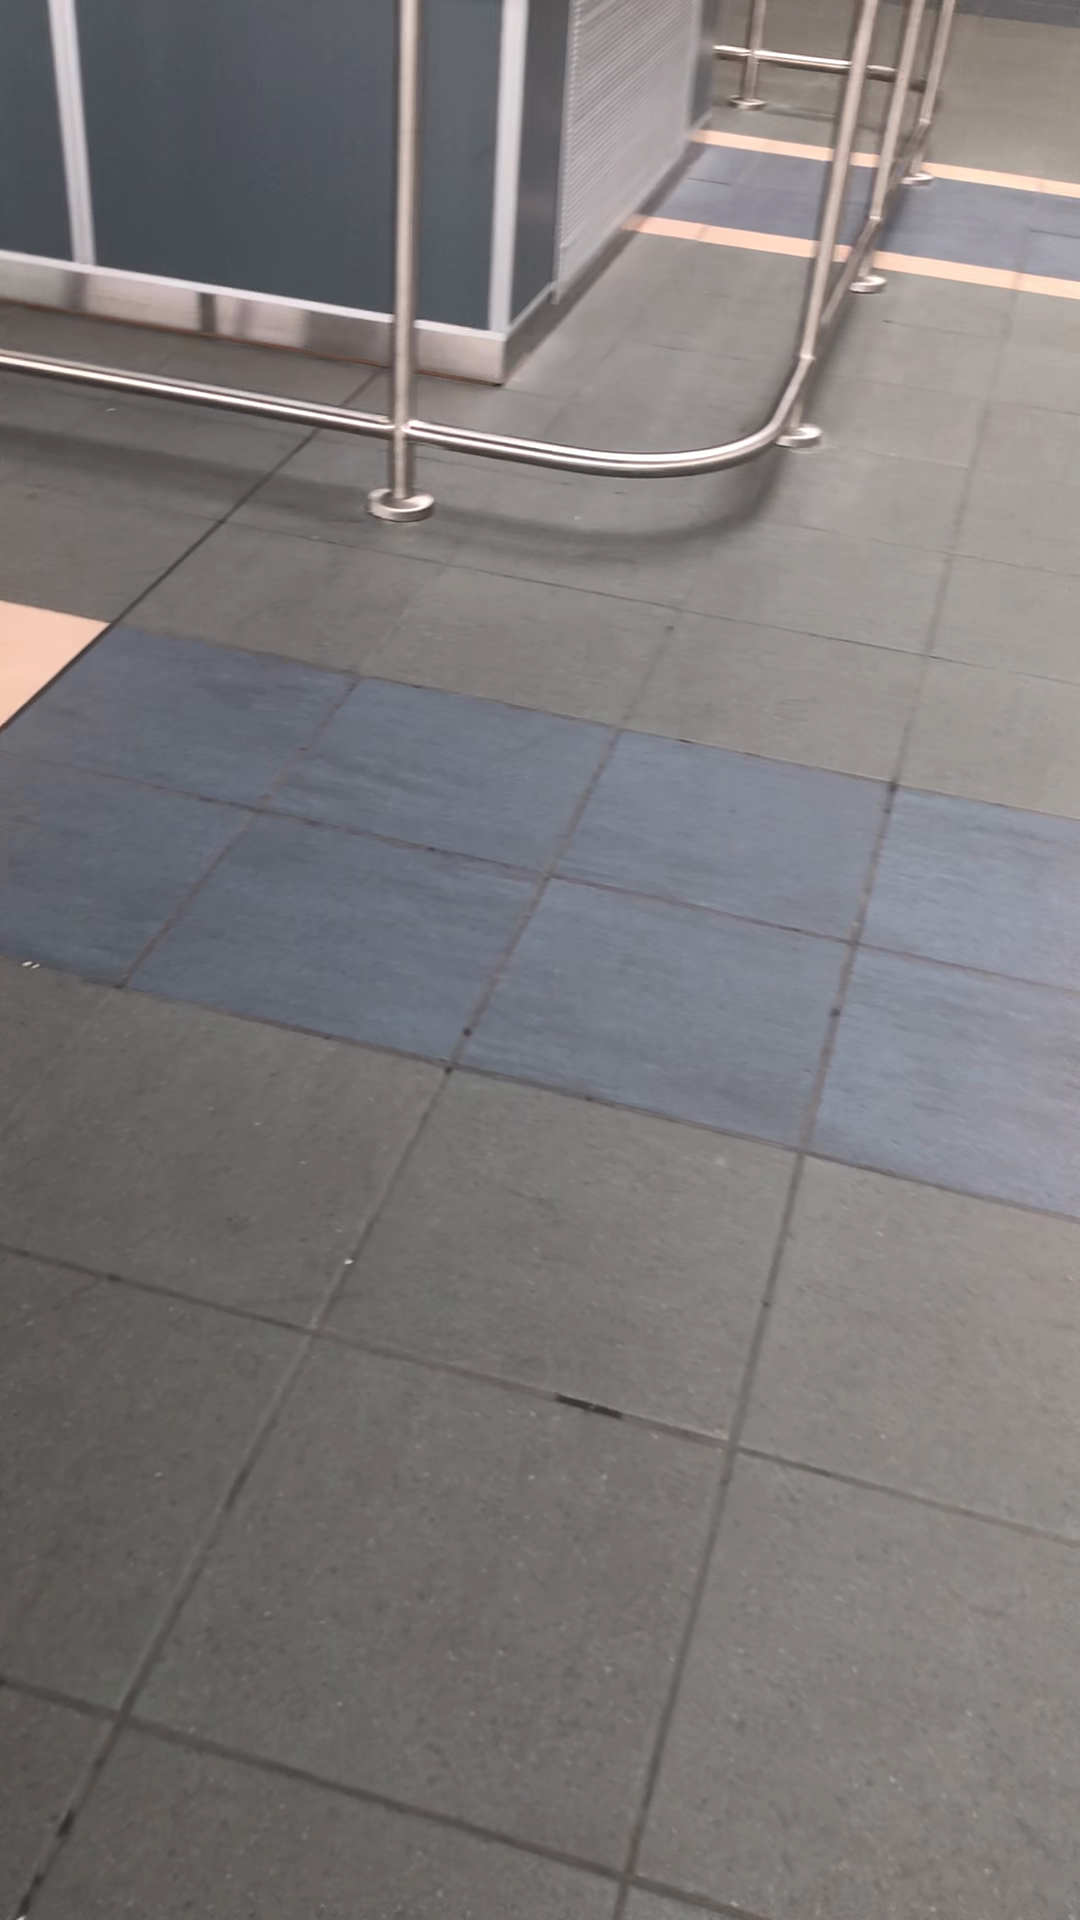Stain: (546, 1378, 641, 1437)
